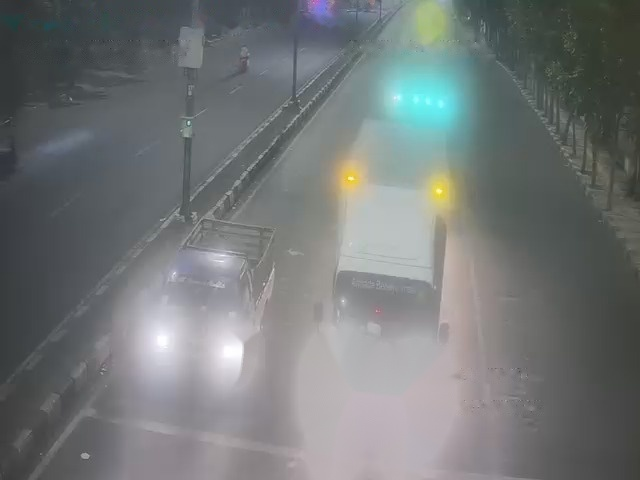Mobil: (160, 217, 278, 389)
Truk: (332, 172, 450, 415)
